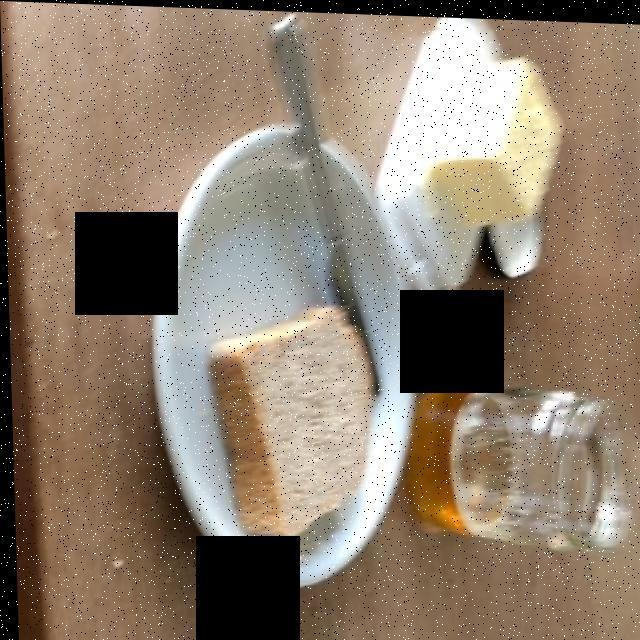bread: (211, 305, 374, 534)
butter: (430, 49, 569, 234)
honey: (414, 374, 510, 532)
